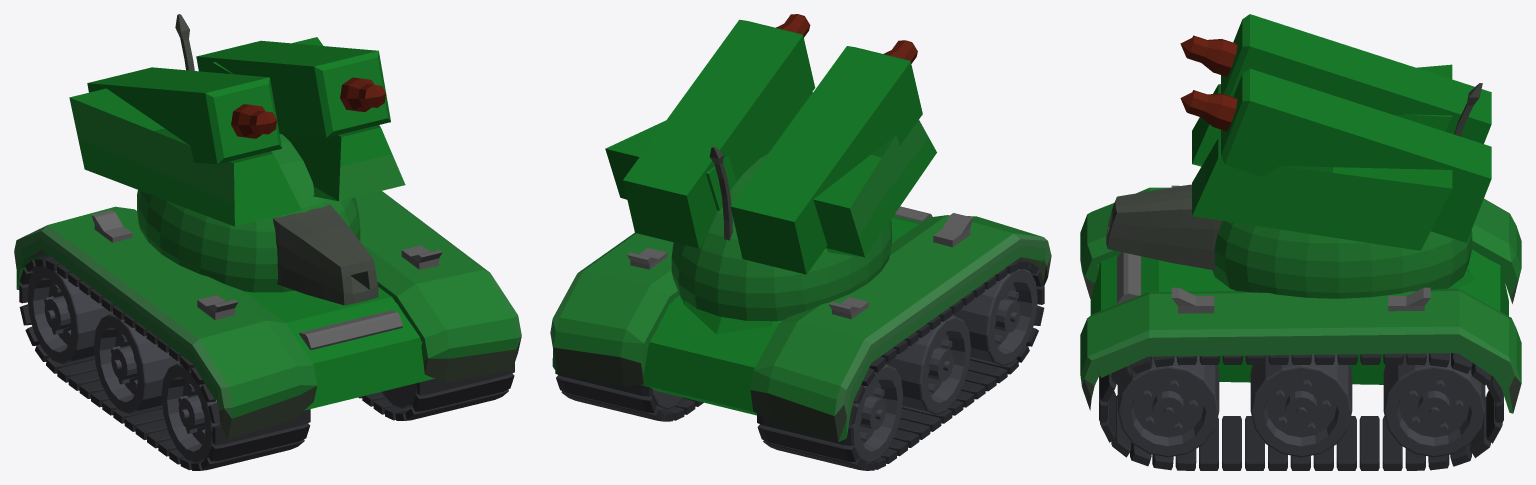
The model's file is minitank-processed-v4.fbx.
The picture shows the model from 3 angles, left to right: view 1: azimuth 30°, elevation 25°; view 2: azimuth 150°, elevation 25°; view 3: azimuth 270°, elevation 25°; orthographic projection. The views are drawn at different scales.
Parts seen in each view (by area): view 1: body, ballistic, missile launcher, cannon; view 2: body, ballistic, cannon, missile launcher; view 3: body, ballistic, cannon, missile launcher.
Part boxes in pixels (box(x1,y1,x2,y2)): body: box(14, 191, 521, 470); ballistic: box(87, 40, 390, 164); missile launcher: box(69, 37, 405, 226); cannon: box(137, 14, 378, 305); body: box(550, 206, 1051, 470); ballistic: box(623, 14, 922, 334); cannon: box(671, 146, 891, 321); missile launcher: box(605, 92, 936, 257); body: box(1080, 185, 1521, 470); ballistic: box(1180, 14, 1491, 288); cannon: box(1106, 83, 1482, 298); missile launcher: box(1192, 64, 1452, 250).
Bounding box in the file's own units: 1065 × 1115 × 1315.
